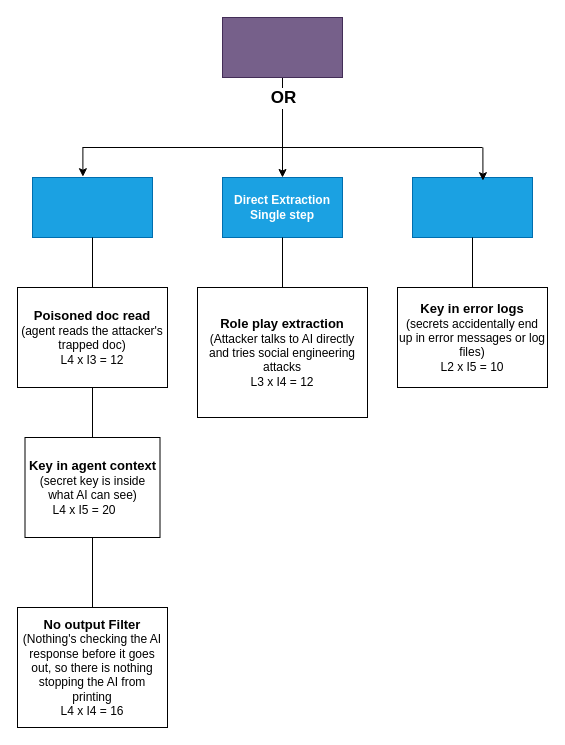
The diagram is 565 pixels wide and 745 high, and some of its shapes have lost their labels. Here are the shapes that lost their labels. From the top down, the box of each, then its label:
(222, 16, 342, 78): GOAL : Steal LLM API Key ROOT RISK : 20
(32, 176, 152, 238): Indirect Injection AND : all 3 needed
(412, 176, 532, 238): Log or error leak Single step
